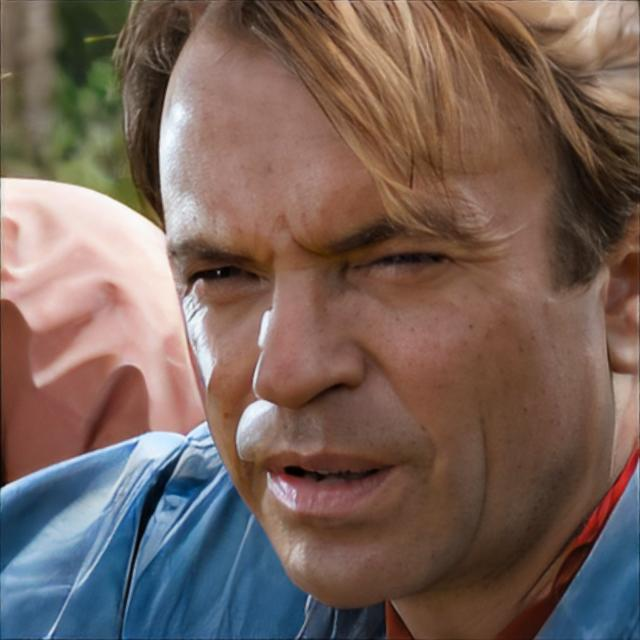anger: (154, 36, 596, 608)
